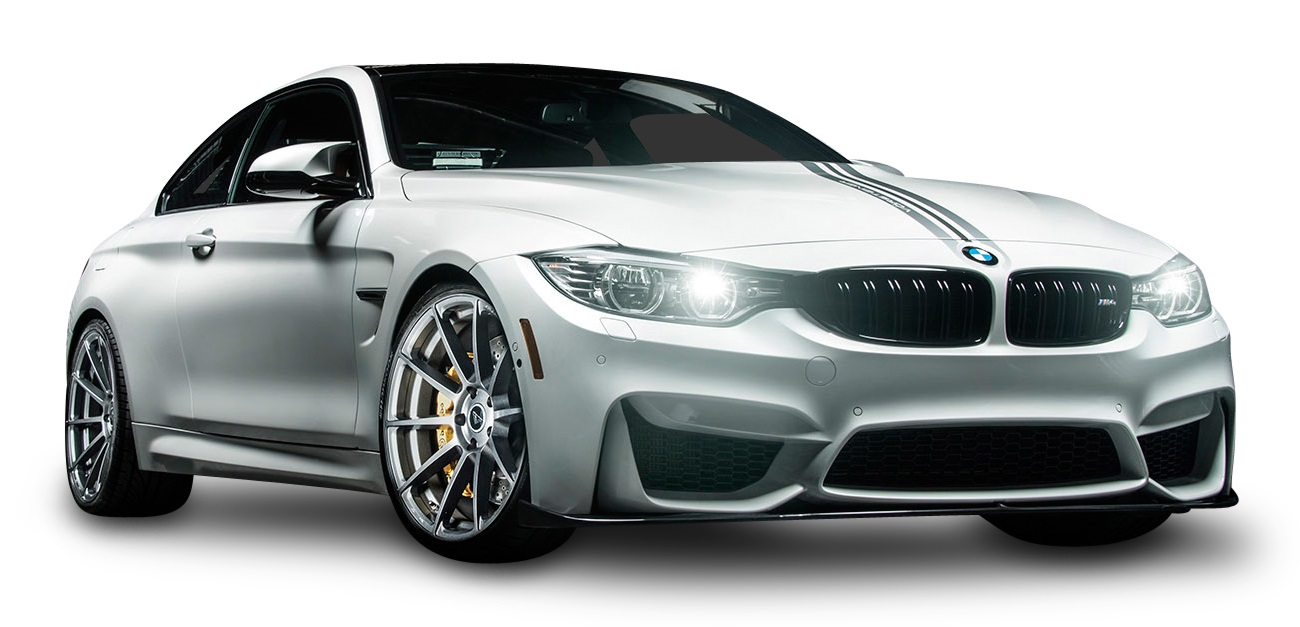bmw: (39, 63, 1240, 556)
